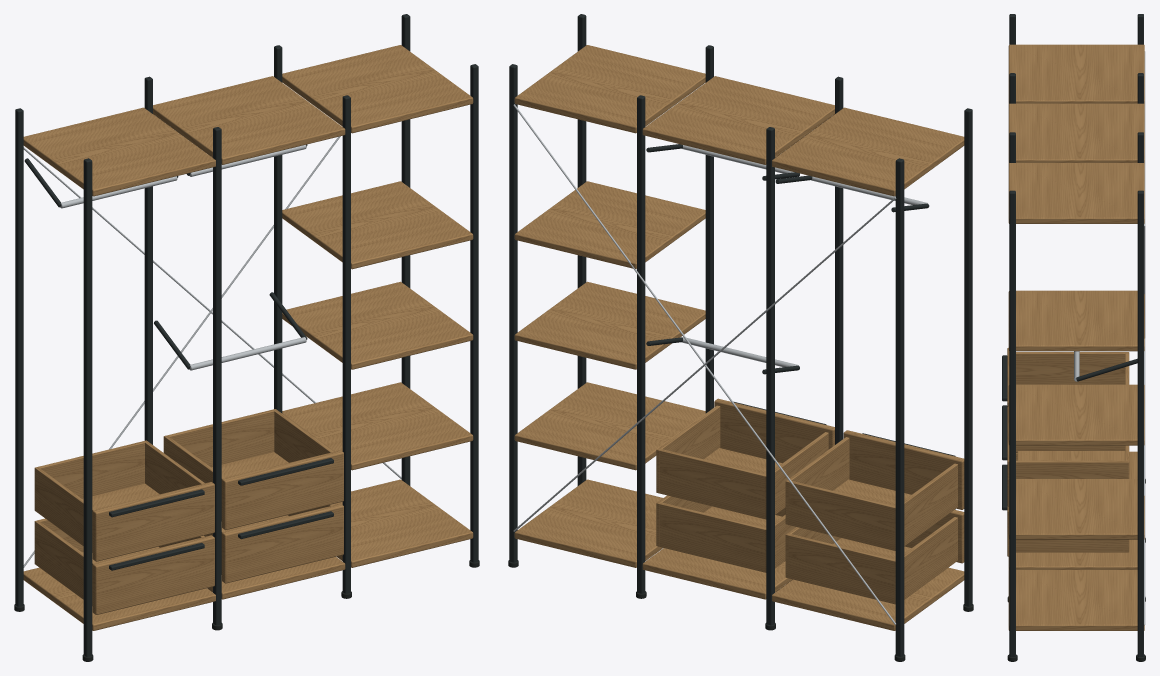
3 renders of one model, left to right at view 1: azimuth 30°, elevation 25°; view 2: azimuth 150°, elevation 25°; view 3: azimuth 270°, elevation 25°, orthographic. The views are drawn at different scales.
Visible parts, largest first — view 1: Wardrobe | oak bridge shelf.001, Wardrobe | oak bridge shelf.003, Wardrobe | oak bridge shelf.005, Wardrobe | folded-clothes shelf.002, Wardrobe | folded-clothes shelf.001, Wardrobe | folded-clothes shelf, Wardrobe | oak bridge shelf.004, Wardrobe | floating drawer | front, Wardrobe | floating drawer | front.001, Wardrobe | floating drawer | front.003, Wardrobe | floating drawer | front.002, Wardrobe | steel upright (+21 smaller); view 2: Wardrobe | oak bridge shelf.001, Wardrobe | oak bridge shelf.003, Wardrobe | oak bridge shelf.005, Wardrobe | folded-clothes shelf.002, Wardrobe | folded-clothes shelf.001, Wardrobe | folded-clothes shelf, Wardrobe | oak bridge shelf.004, Wardrobe | steel upright.001, Wardrobe | floating drawer | drawer rear.003, Wardrobe | floating drawer | drawer rear.002, Wardrobe | floating drawer | drawer rear.001, Wardrobe | floating drawer | drawer rear (+21 smaller); view 3: Wardrobe | oak bridge shelf.005, Wardrobe | oak bridge shelf.003, Wardrobe | oak bridge shelf.001, Wardrobe | folded-clothes shelf.001, Wardrobe | folded-clothes shelf.002, Wardrobe | folded-clothes shelf, Wardrobe | oak bridge shelf.004, Wardrobe | floating drawer | drawer side.002, Wardrobe | steel upright.007, Wardrobe | steel upright.006, Wardrobe | oak bridge shelf.002, Wardrobe | floating drawer | drawer side.007 (+10 smaller).
Part boxes in pixels (x1,y1,x2,y2): Wardrobe | oak bridge shelf.001: (23, 107, 215, 196); Wardrobe | oak bridge shelf.003: (153, 76, 345, 164); Wardrobe | oak bridge shelf.005: (282, 45, 473, 133); Wardrobe | folded-clothes shelf.002: (282, 181, 473, 269); Wardrobe | folded-clothes shelf.001: (282, 281, 473, 369); Wardrobe | folded-clothes shelf: (282, 382, 473, 470); Wardrobe | oak bridge shelf.004: (333, 479, 473, 567); Wardrobe | floating drawer | front: (92, 535, 214, 614); Wardrobe | floating drawer | front.001: (92, 482, 214, 561); Wardrobe | floating drawer | front.003: (222, 450, 343, 530); Wardrobe | floating drawer | front.002: (222, 503, 343, 583); Wardrobe | steel upright: (83, 158, 92, 656); Wardrobe | oak bridge shelf.001: (772, 107, 964, 196); Wardrobe | oak bridge shelf.003: (642, 76, 834, 164); Wardrobe | oak bridge shelf.005: (514, 45, 705, 133); Wardrobe | folded-clothes shelf.002: (514, 181, 705, 268); Wardrobe | folded-clothes shelf.001: (514, 281, 705, 369); Wardrobe | folded-clothes shelf: (514, 382, 705, 470); Wardrobe | oak bridge shelf.004: (514, 479, 662, 567); Wardrobe | steel upright.001: (895, 158, 904, 656); Wardrobe | floating drawer | drawer rear.003: (659, 449, 765, 518); Wardrobe | floating drawer | drawer rear.002: (659, 502, 766, 572); Wardrobe | floating drawer | drawer rear.001: (788, 481, 895, 550); Wardrobe | floating drawer | drawer rear: (788, 534, 895, 603); Wardrobe | oak bridge shelf.005: (1008, 163, 1144, 223); Wardrobe | oak bridge shelf.003: (1008, 103, 1144, 163); Wardrobe | oak bridge shelf.001: (1008, 44, 1144, 104); Wardrobe | folded-clothes shelf.001: (1008, 384, 1144, 445); Wardrobe | folded-clothes shelf.002: (1008, 290, 1144, 351); Wardrobe | folded-clothes shelf: (1008, 479, 1144, 539); Wardrobe | oak bridge shelf.004: (1008, 570, 1144, 630); Wardrobe | floating drawer | drawer side.002: (1016, 352, 1129, 384); Wardrobe | steel upright.007: (1137, 190, 1143, 656); Wardrobe | steel upright.006: (1009, 190, 1015, 656); Wardrobe | oak bridge shelf.002: (1008, 539, 1137, 570); Wardrobe | floating drawer | drawer side.007: (1016, 460, 1129, 478).
Bounding box in the file's own units: 1.72 × 2.08 × 0.5785.
Materials: 4 (1 with a texture image).
